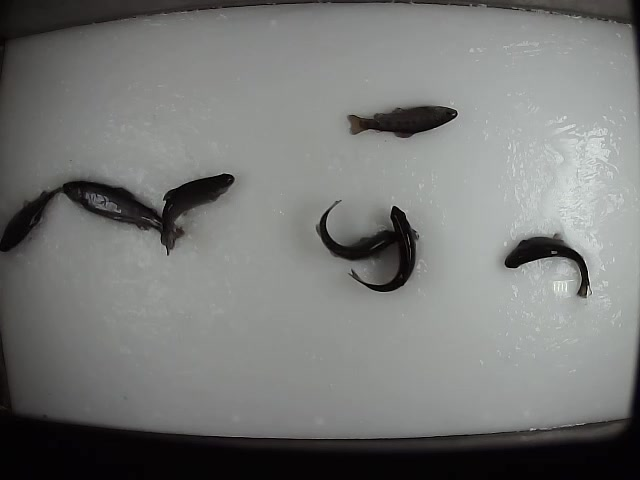fish: (59, 178, 186, 244), (344, 203, 418, 293), (157, 167, 236, 248), (503, 231, 594, 299), (312, 197, 404, 262), (1, 178, 71, 254), (345, 101, 460, 140)
